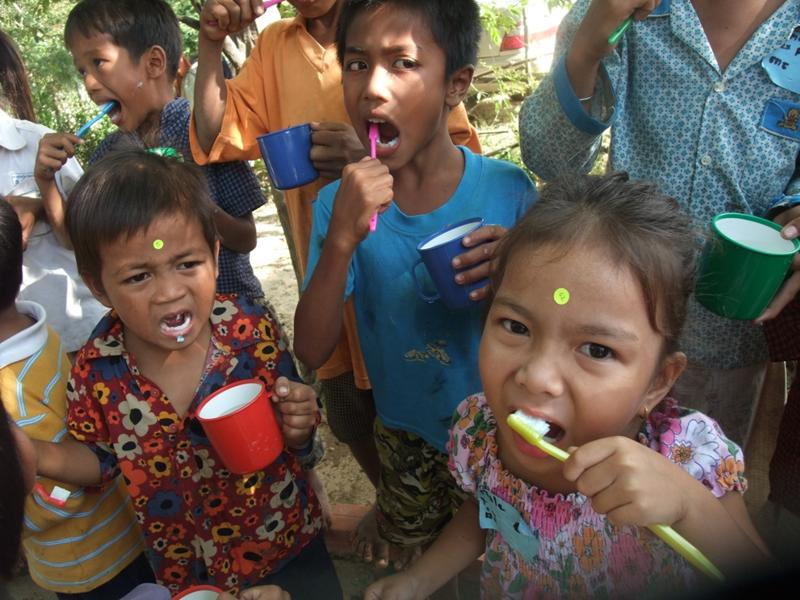person: (364, 171, 784, 600)
